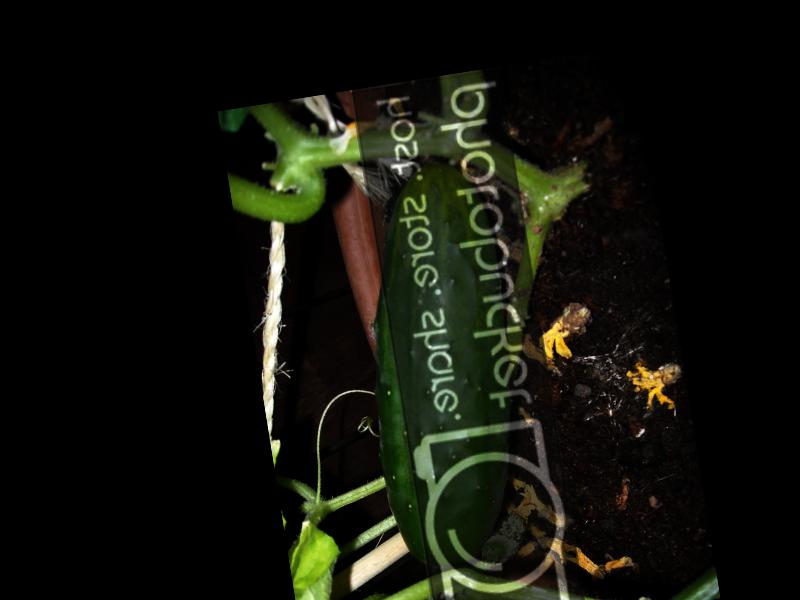Cucumber: (337, 155, 547, 573)
